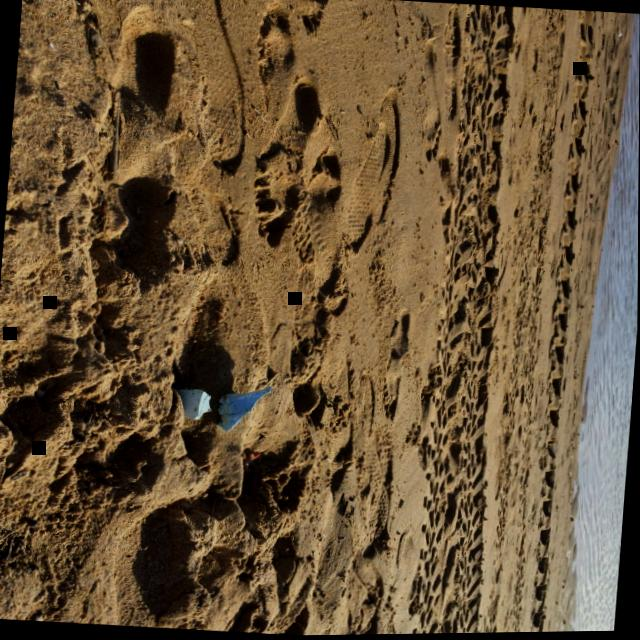Styrofoam piece: (216, 385, 273, 431), (177, 389, 212, 419)
Unlabeled litter: (244, 452, 262, 473)
